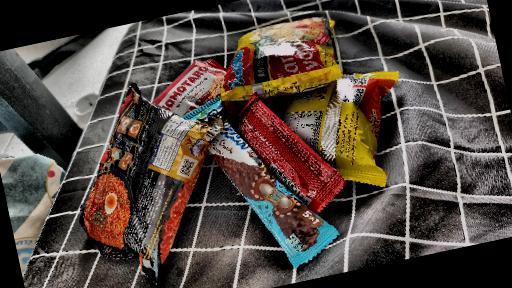dilan: (209, 109, 348, 267)
indomie: (199, 0, 352, 103)
mie sedap: (50, 99, 227, 274)
